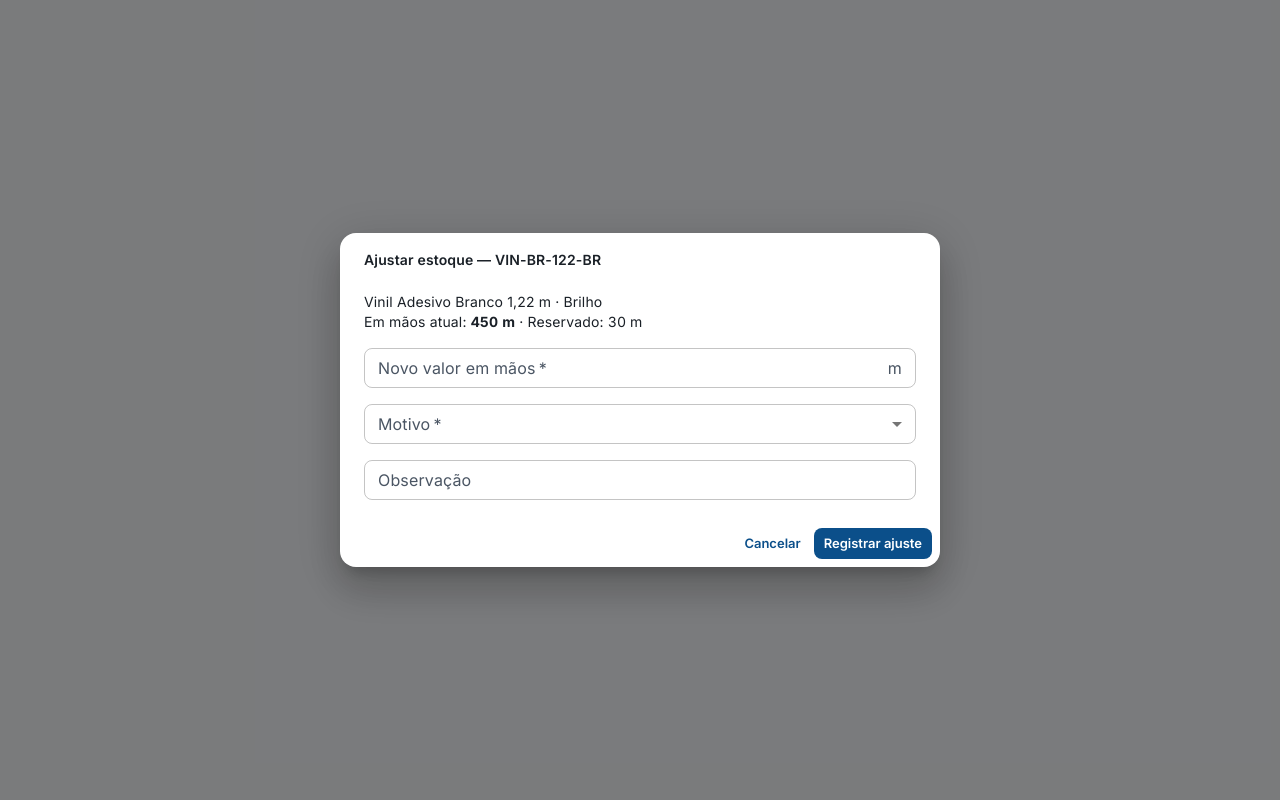
it: Ajuste de estoque › diferença > 10% exige confirmação
The width and height of the screenshot is (1280, 800).
Step 1. Type "100" into the field labelled "Novo valor em mãos *" → (622, 368), box x1=364 y1=348 x2=880 y2=388
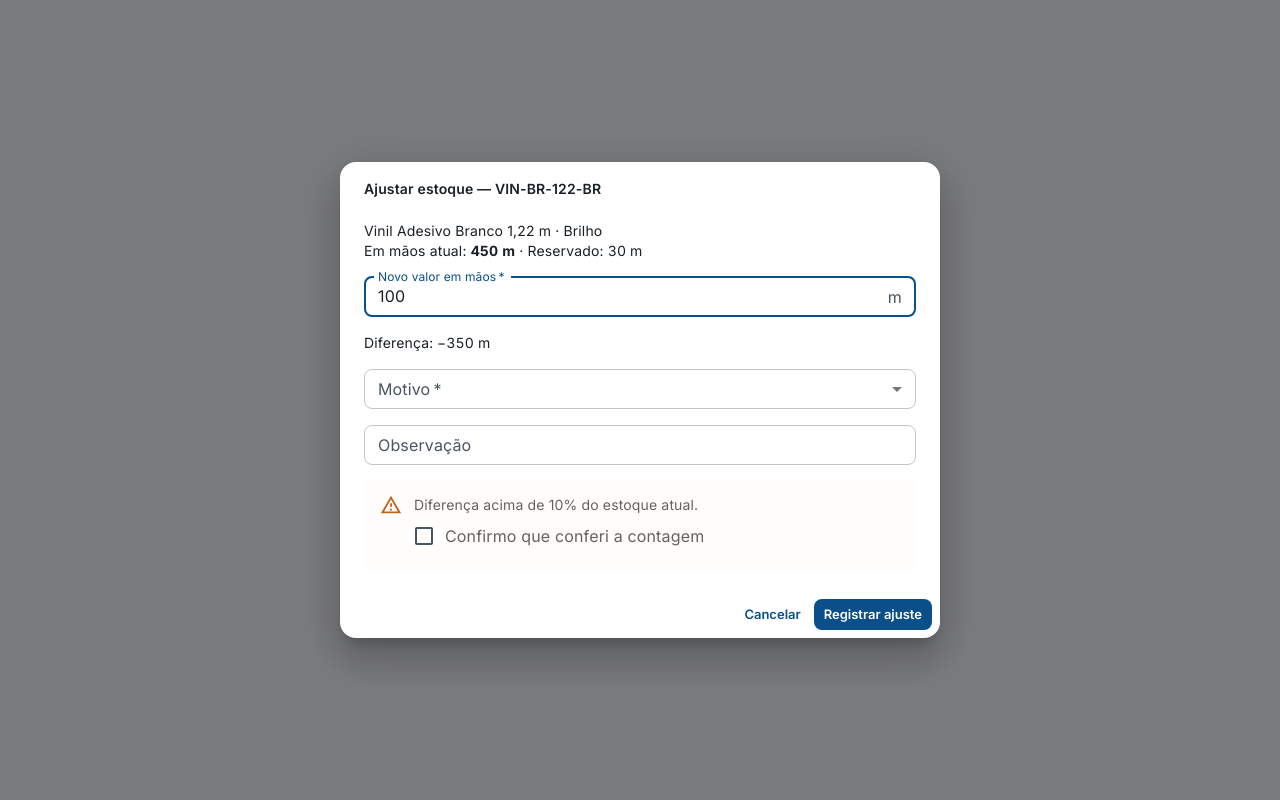
Check: the text "acima de 10%" is shown, box x1=414 y1=496 x2=698 y2=513
Step 2. Click the dropdown named "Motivo" → (640, 389), box x1=364 y1=369 x2=916 y2=409
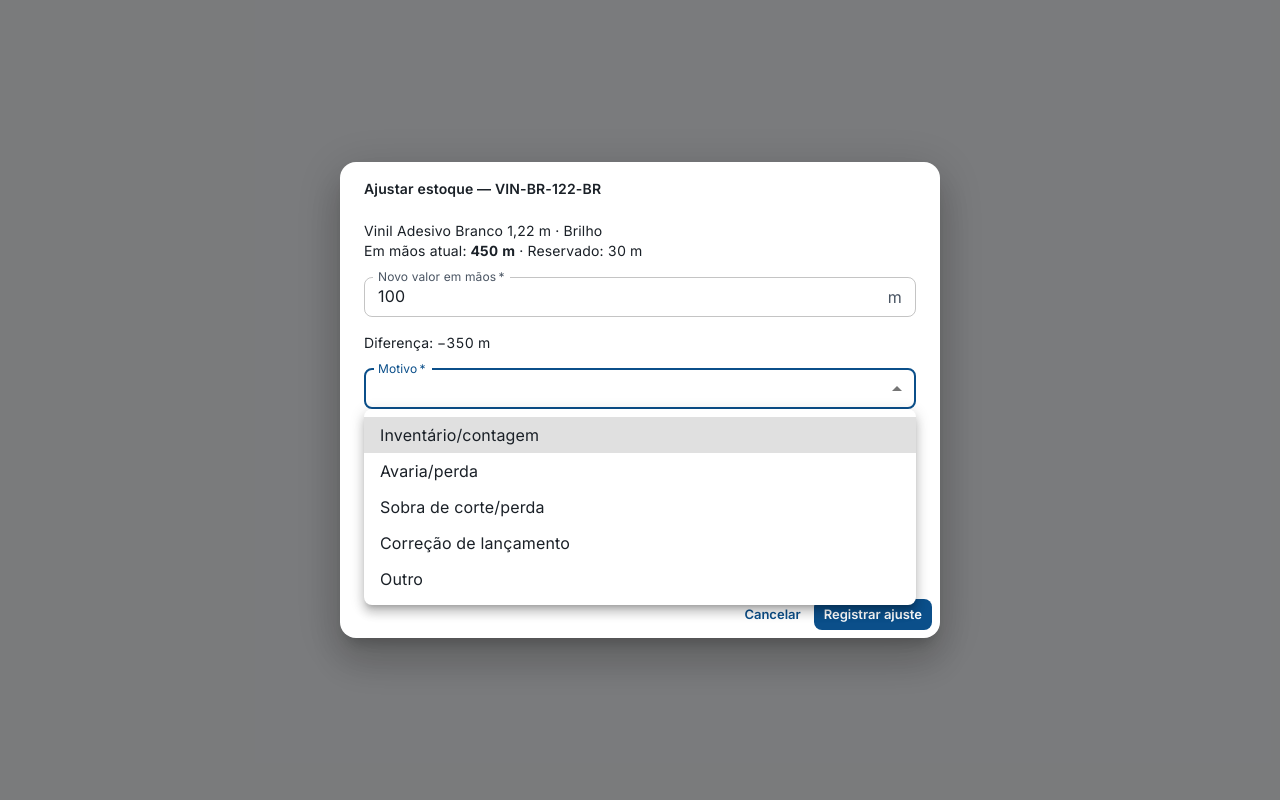
Step 3. Click the option "Avaria/perda" → (429, 471), box x1=380 y1=461 x2=478 y2=481
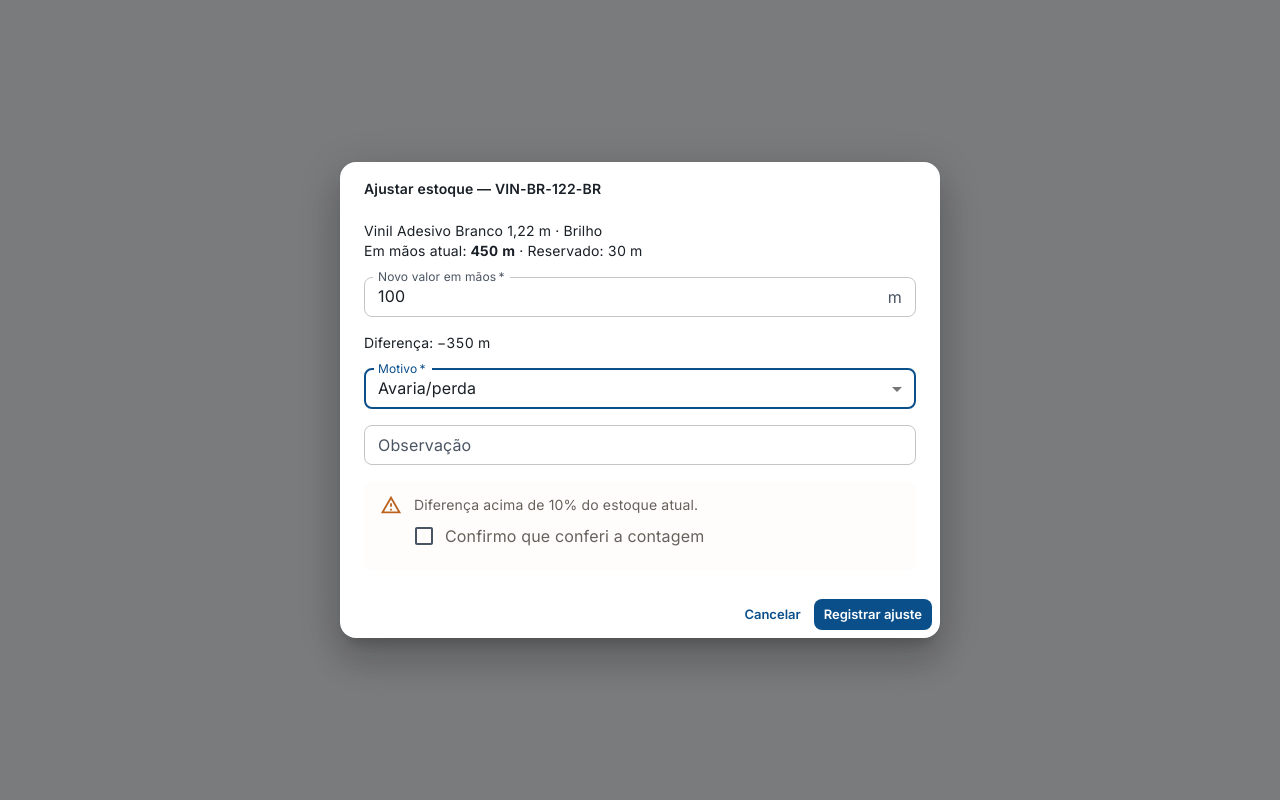
Step 4. Click the button "Registrar ajuste" → (873, 614), box x1=814 y1=599 x2=932 y2=630
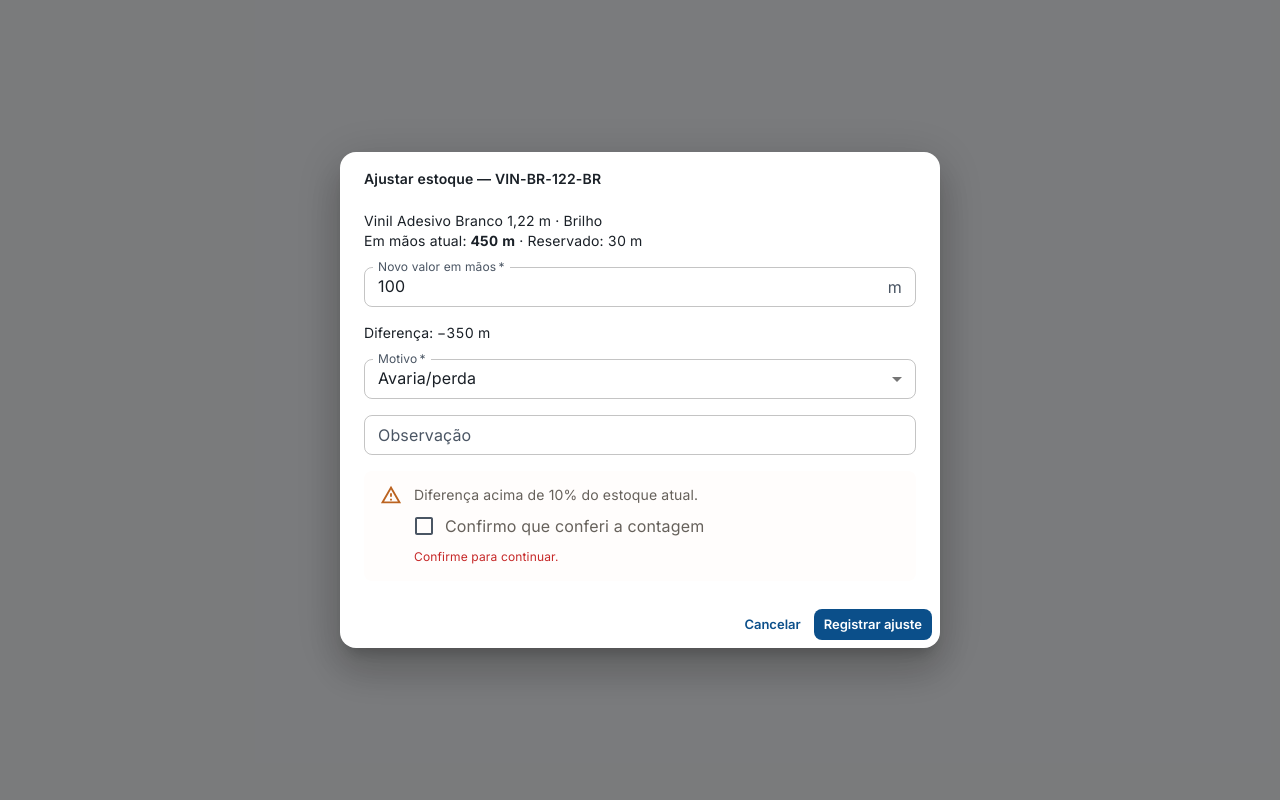
Check: the text "Confirme para continuar." is shown, box x1=414 y1=549 x2=558 y2=564
